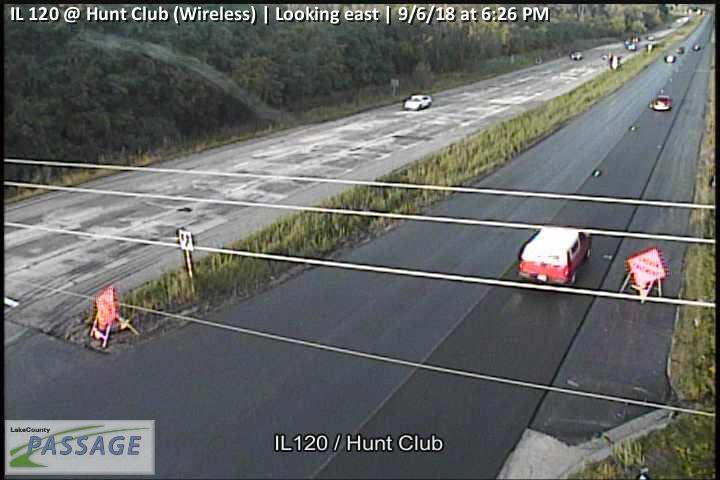SUV: (516, 225, 592, 288)
